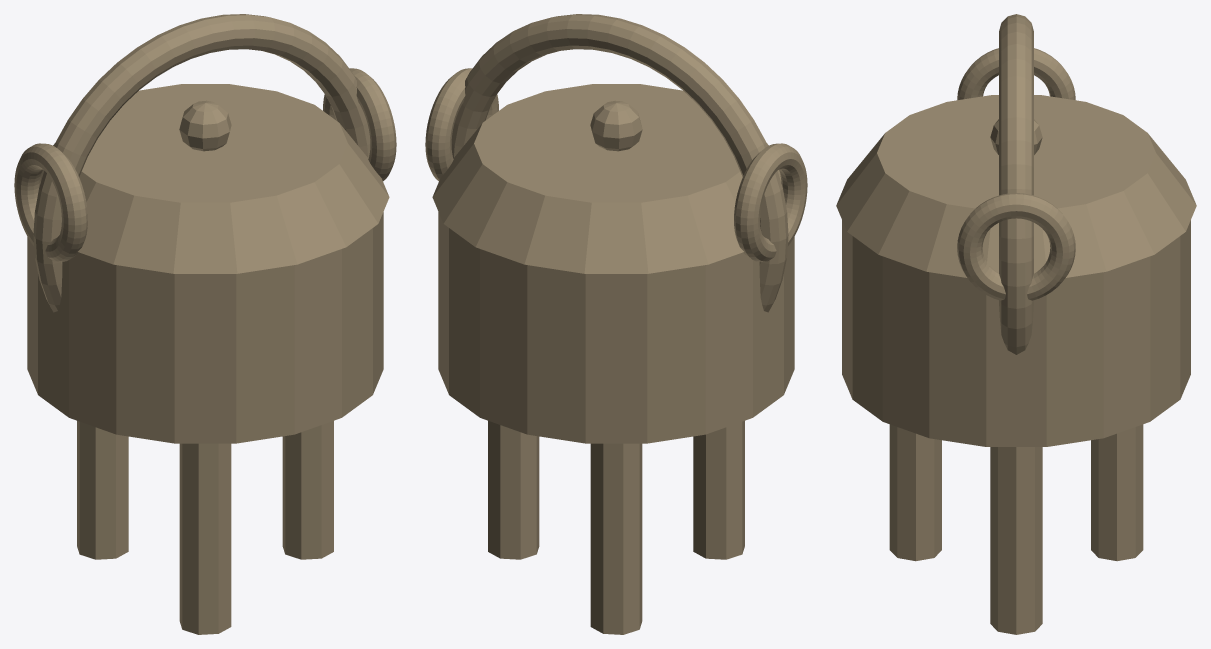
Rendered from incense_burner.glb.
The picture shows the model from 3 angles, left to right: view 1: azimuth 30°, elevation 25°; view 2: azimuth 150°, elevation 25°; view 3: azimuth 270°, elevation 25°; orthographic projection. The views are drawn at different scales.
Parts seen in each view (by area): view 1: incense_burner; view 2: incense_burner; view 3: incense_burner.
Part boxes in pixels (left/top/right/bottom): incense_burner: left=14, top=14, right=396, bottom=634; incense_burner: left=425, top=14, right=807, bottom=634; incense_burner: left=836, top=14, right=1196, bottom=634.
Size of the model in its own units: 0.66 by 1.03 by 0.62.
